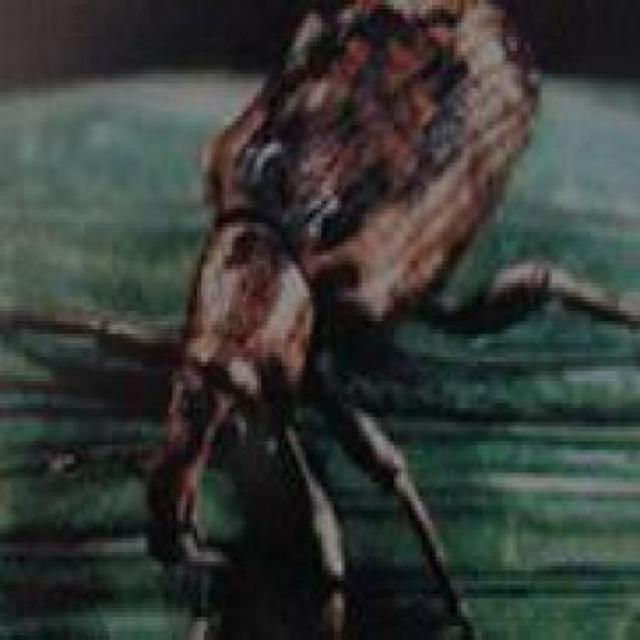rice-bug: (2, 0, 638, 638)
